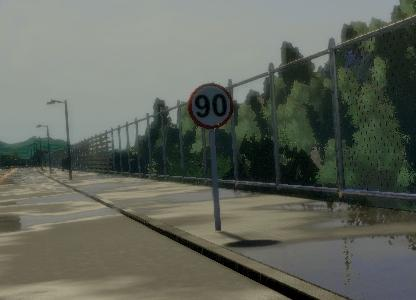Speed_90: (184, 82, 236, 132)
